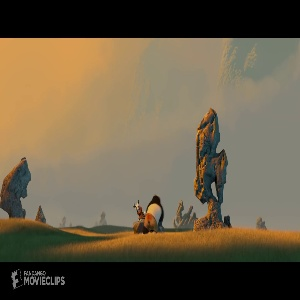po: (142, 194, 164, 234)
shifu: (132, 200, 147, 219)
